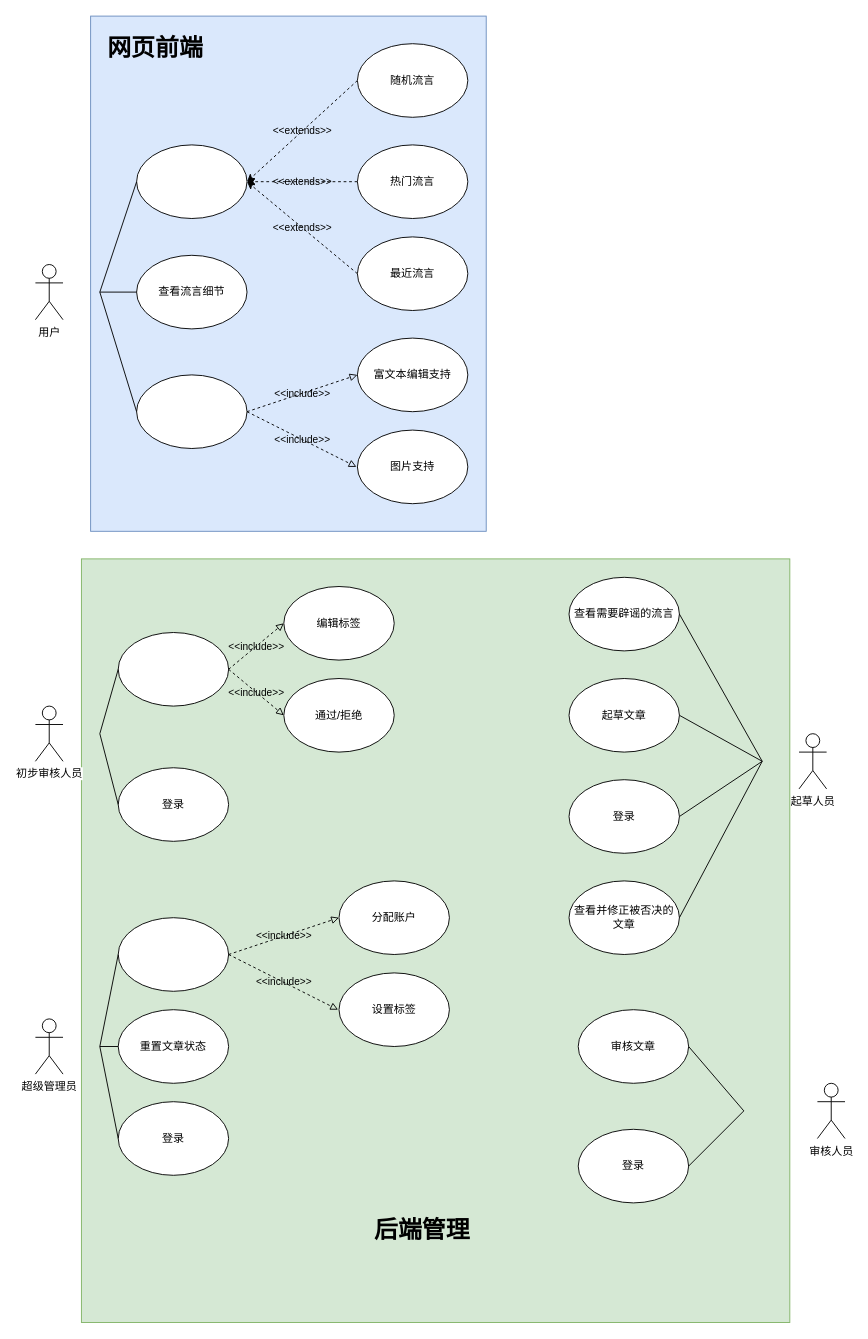
Some shapes in this 868 by 1339 pixel diagram are drawn without their labels. Each missing label, with the centre of its shape:
"处理待审核流言" belongs at point (173, 669).
"提交流言" belongs at point (191, 411).
"查看流言列表" belongs at point (191, 181).
"管理工作人员" belongs at point (173, 954).
